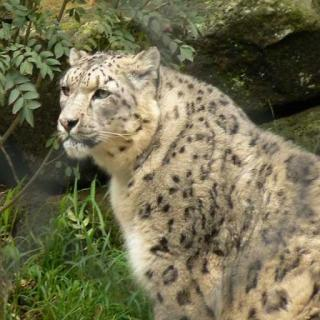Leopard: (44, 40, 320, 320)
